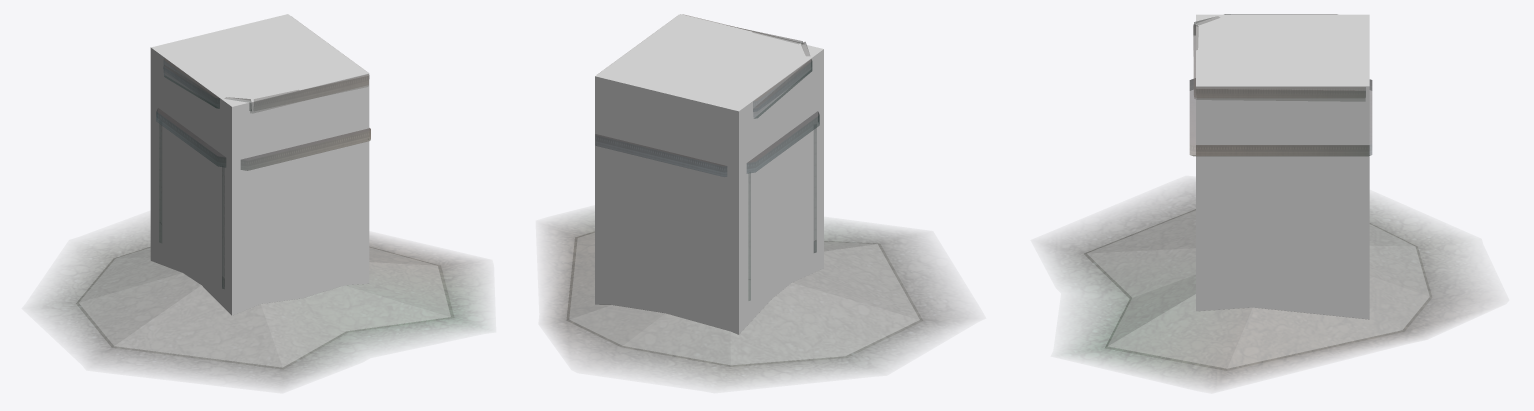
Rendered from source.glb.
The picture shows the model from 3 angles, left to right: view 1: azimuth 30°, elevation 25°; view 2: azimuth 150°, elevation 25°; view 3: azimuth 270°, elevation 25°; orthographic projection. The views are drawn at different scales.
Parts seen in each view (by area): view 1: coll_m206_0, state1_obj_bae0d0, state1_coll_m10a_0, state2_obj_bbc480, state1_obj_bb40e0, obj_baa140, obj_ba9090; view 2: coll_m206_0, state1_coll_m206_0, state1_obj_bae0d0, state1_coll_m10a_0, state2_obj_bbc480, state1_obj_bb40e0, obj_baa140, obj_ba9090; view 3: coll_m206_0, state1_obj_bae0d0, state1_coll_m206_0, state1_coll_m10a_0, state2_obj_bbc480, state1_obj_bb40e0, obj_baa140.
Boxes of the visible parts, x1,y1,x2,y2 form: coll_m206_0: (150,14,369,315); state1_obj_bae0d0: (50,231,473,380); state1_coll_m10a_0: (76,247,454,369); state2_obj_bbc480: (58,235,467,376); state1_obj_bb40e0: (156,65,370,170); obj_baa140: (156,43,370,170); obj_ba9090: (159,123,224,288); coll_m206_0: (595,14,823,334); state1_coll_m206_0: (595,80,738,334); state1_obj_bae0d0: (556,218,943,377); state1_coll_m10a_0: (566,231,922,366); state2_obj_bbc480: (553,222,952,378); state1_obj_bb40e0: (595,27,819,176); obj_baa140: (596,14,819,176); obj_ba9090: (748,128,816,300); coll_m206_0: (1196,14,1369,319); state1_obj_bae0d0: (1058,192,1468,381); state1_coll_m206_0: (1196,90,1369,319); state1_coll_m10a_0: (1084,209,1432,370); state2_obj_bbc480: (1066,194,1457,377); state1_obj_bb40e0: (1190,16,1371,155); obj_baa140: (1190,14,1371,155).
Bounding box in the file's own units: 499 × 251 × 467.
Materials: 20 (20 with a texture image).
